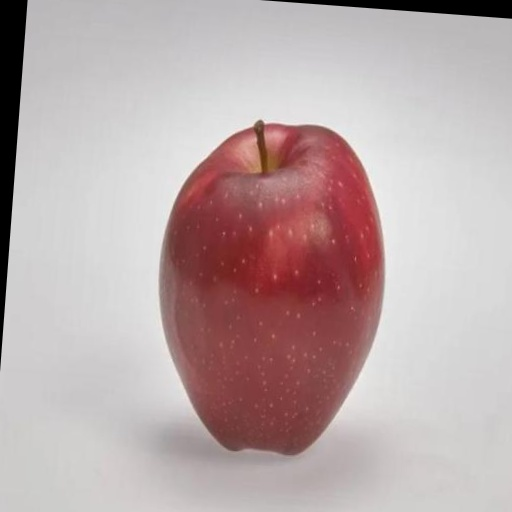fruit: (160, 122, 384, 454)
